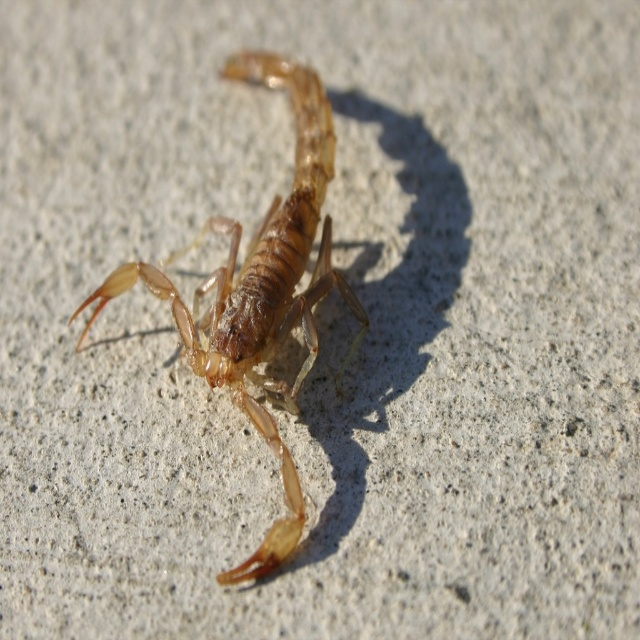Scorpion: (67, 49, 372, 586)
